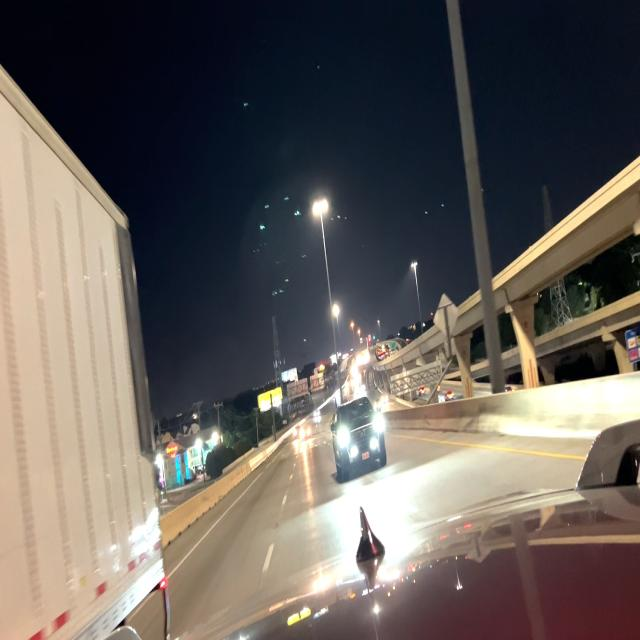back-of-sign: (388, 360, 442, 401), (433, 292, 461, 357), (284, 371, 325, 401)
